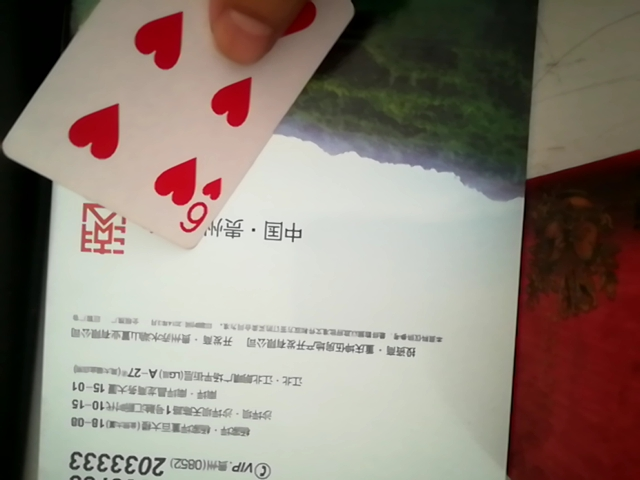hx 6: (13, 1, 323, 255)
